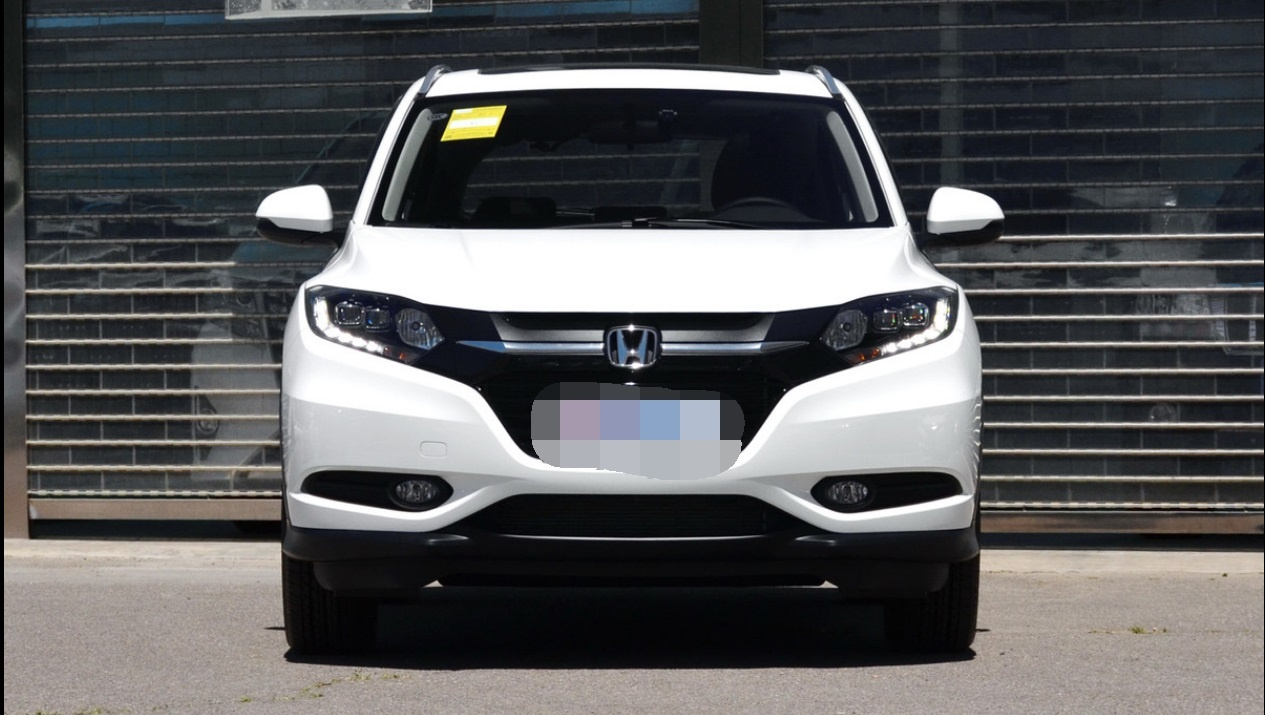SUV: (291, 35, 1003, 636)
